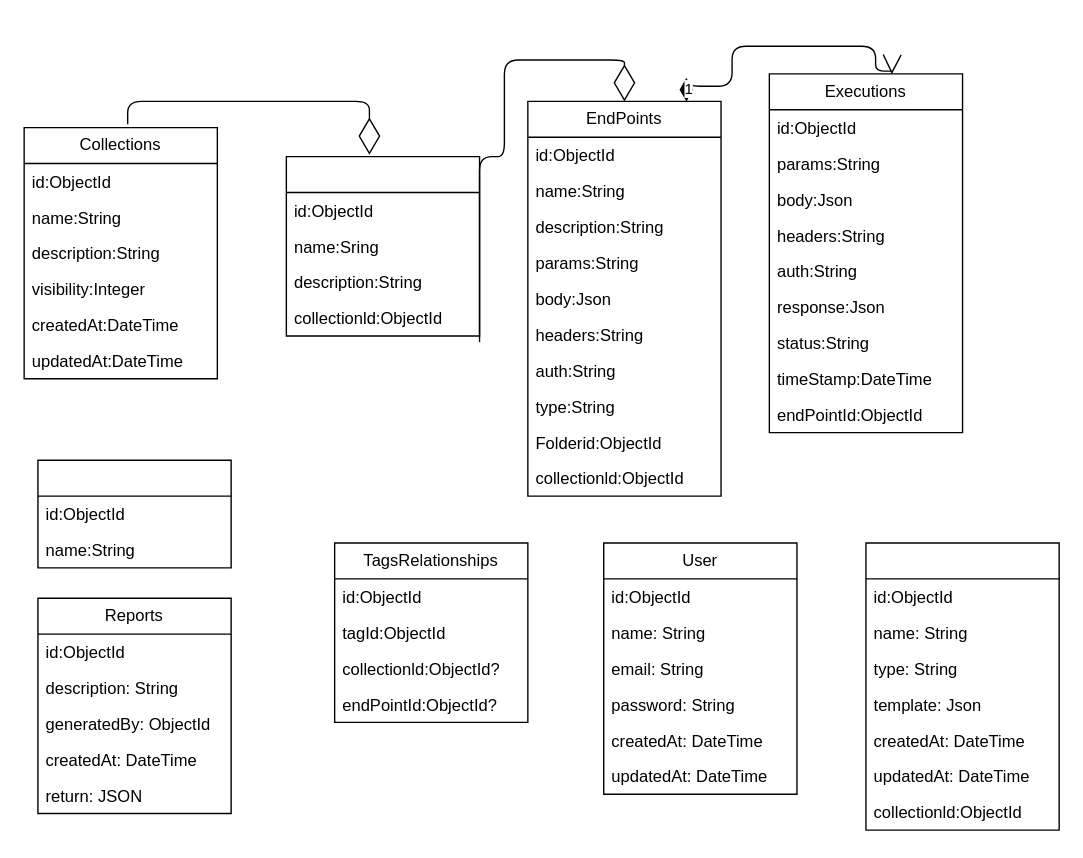
Some shapes in this 1083 by 858 pixel diagram are drawn without their labels. Each missing label, with the box of its shape:
Env_Variables: (865, 542, 1059, 830)
Folders: (285, 155, 480, 336)
Tags: (37, 459, 231, 568)
